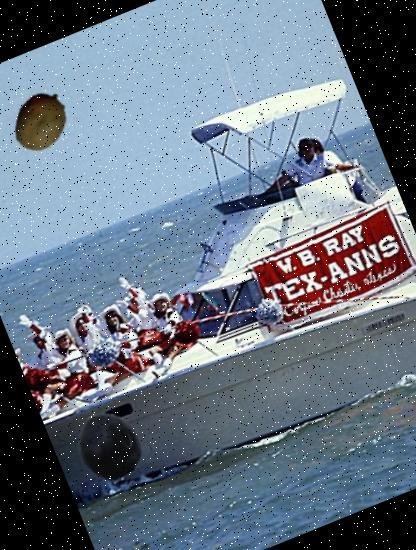Blueberry: (64, 400, 153, 489)
Papaya: (0, 81, 81, 162)
